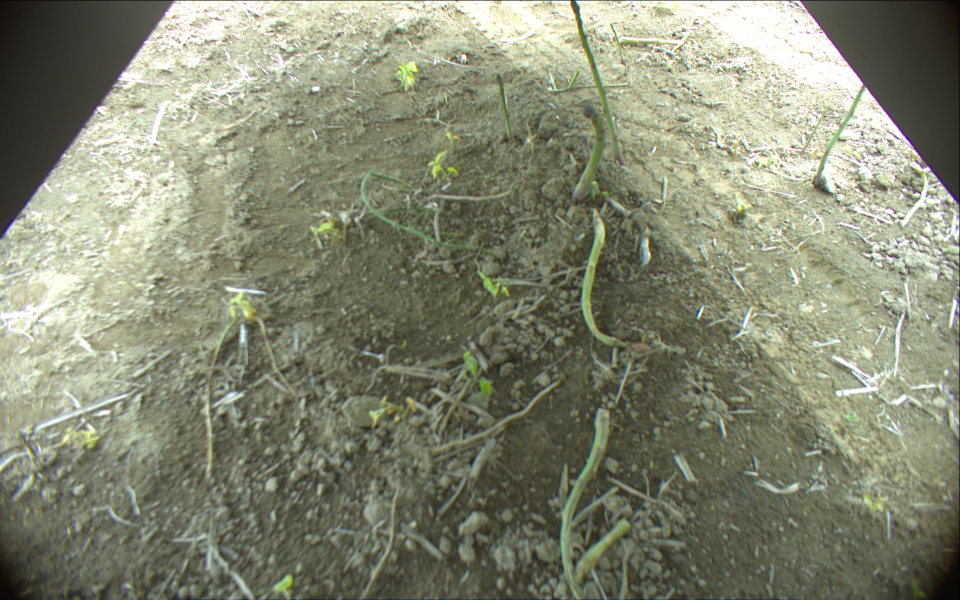aspa: (359, 168, 487, 254), (559, 407, 610, 600), (572, 1, 624, 161), (201, 310, 242, 479), (579, 209, 621, 345), (815, 82, 868, 188), (573, 518, 631, 580), (570, 107, 605, 200), (798, 109, 828, 155), (496, 71, 513, 142), (619, 37, 681, 45), (610, 24, 624, 58)
